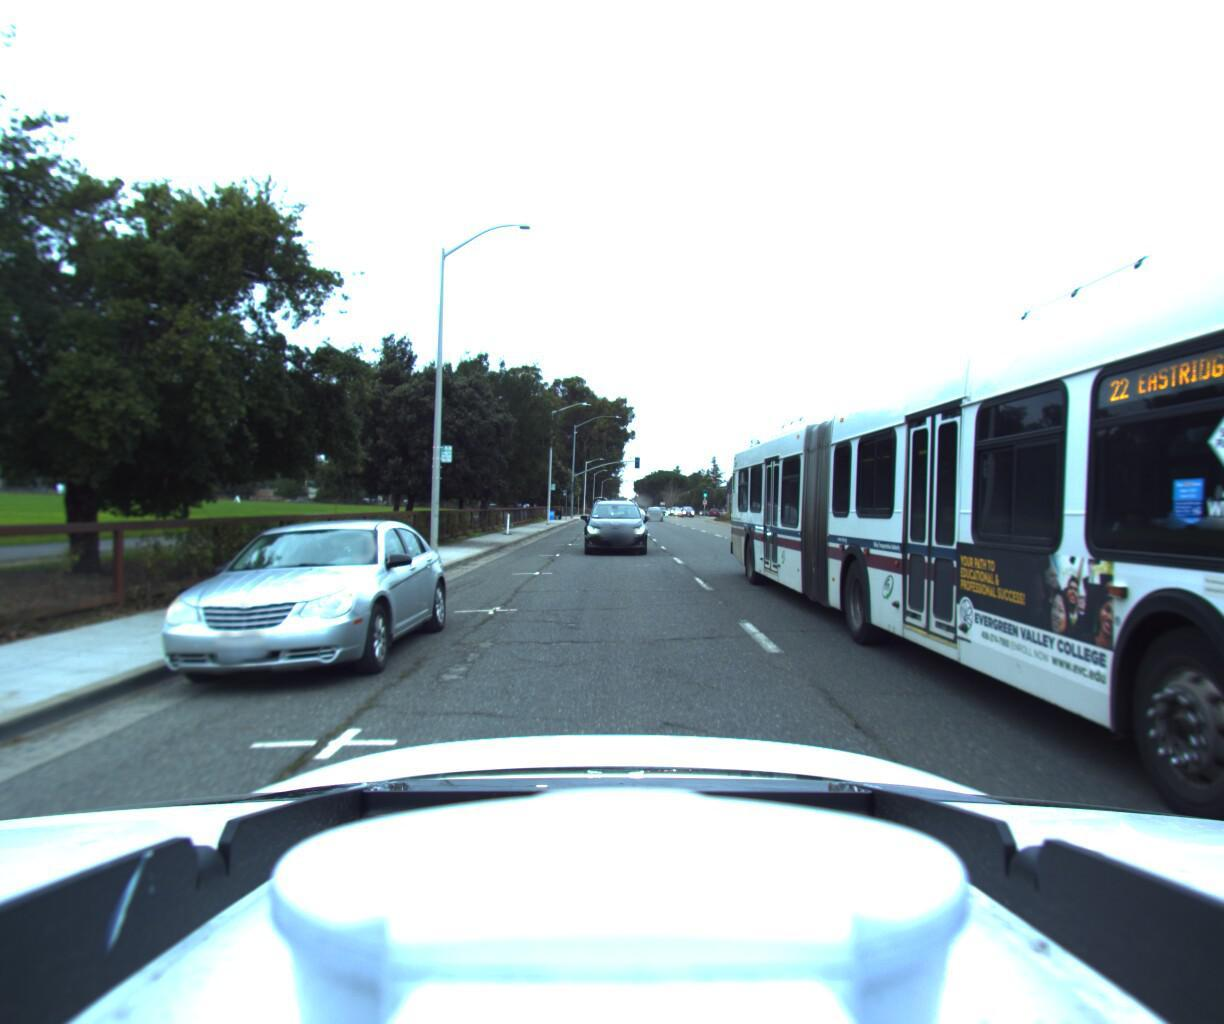car: (121, 511, 448, 702), (583, 498, 645, 556)
